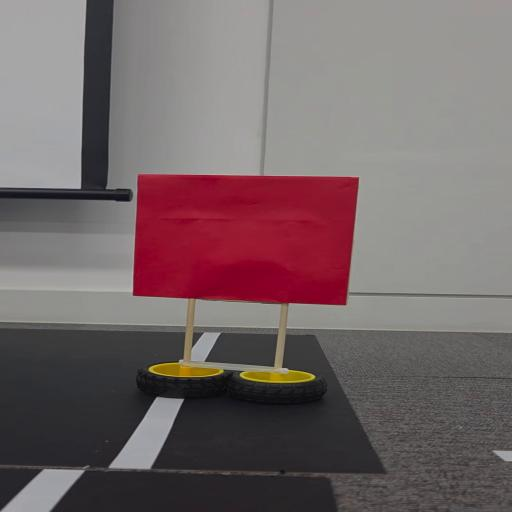Sign_A: (128, 163, 366, 405)
